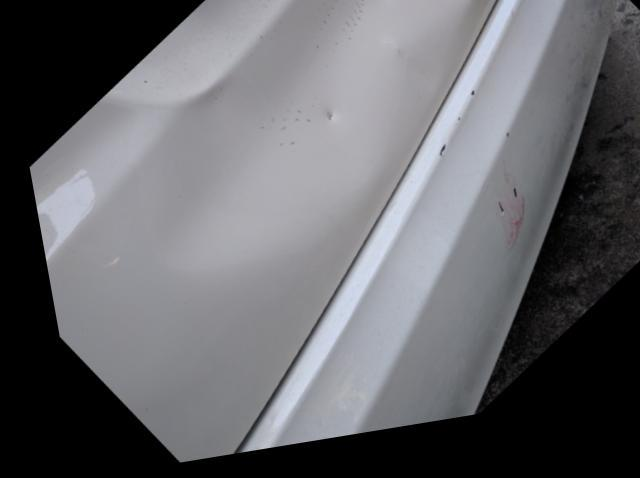dent: (84, 0, 478, 280)
